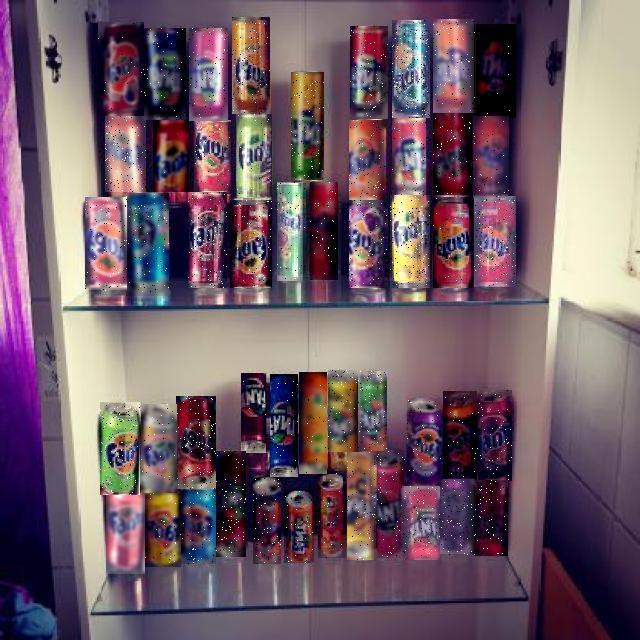Drinks: (126, 194, 169, 298), (98, 22, 144, 116), (85, 198, 127, 292), (475, 24, 517, 118), (434, 19, 476, 113), (145, 28, 187, 120), (475, 196, 517, 287), (188, 192, 227, 288), (392, 20, 430, 118), (390, 195, 430, 288), (176, 396, 216, 489), (100, 402, 140, 495), (230, 200, 272, 288), (232, 17, 270, 114), (433, 197, 473, 288), (189, 28, 228, 121), (291, 72, 324, 180), (350, 26, 388, 119), (350, 201, 388, 289), (476, 390, 512, 481), (141, 404, 177, 494), (106, 494, 145, 576), (433, 113, 472, 195), (216, 451, 246, 557), (105, 116, 146, 192), (407, 398, 442, 487), (443, 391, 477, 480), (237, 114, 273, 198), (378, 451, 406, 559), (348, 452, 376, 560), (473, 116, 509, 198), (271, 374, 299, 477), (350, 120, 386, 200), (299, 372, 327, 474), (278, 182, 306, 281), (310, 182, 338, 280), (194, 120, 231, 194), (440, 480, 476, 556), (405, 486, 441, 560), (145, 493, 181, 567), (392, 118, 426, 196), (153, 120, 189, 192), (181, 490, 216, 564), (475, 481, 509, 557), (253, 478, 281, 564), (319, 473, 347, 558), (328, 371, 357, 453), (358, 371, 387, 451), (242, 373, 270, 453), (284, 489, 314, 563)
